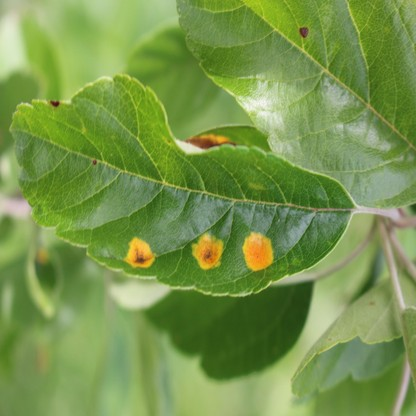frogeye_leaf_spot: (299, 25, 308, 37), (50, 100, 60, 108)
rust: (192, 231, 224, 268), (243, 231, 273, 269), (123, 237, 155, 268), (187, 134, 234, 148)
